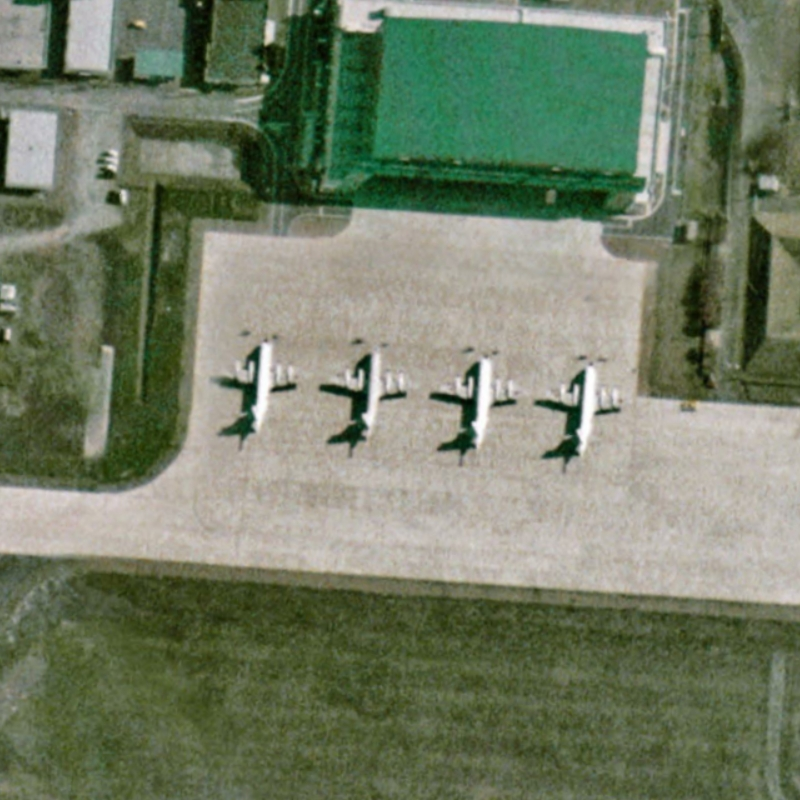A9: (310, 339, 422, 451), (531, 351, 638, 465), (209, 325, 311, 440), (430, 344, 533, 449)
